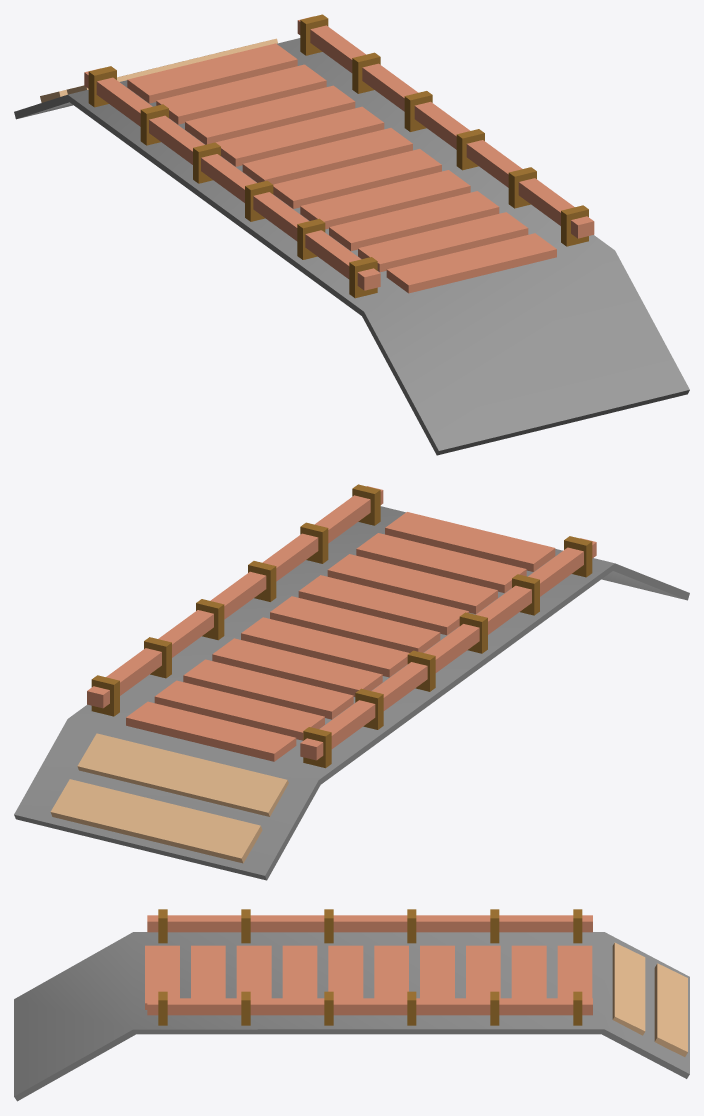
The model's file is bridge.gltf.
The picture shows the model from 3 angles, top to bottom: view 1: azimuth 30°, elevation 25°; view 2: azimuth 150°, elevation 25°; view 3: azimuth 270°, elevation 25°; orthographic projection. The views are drawn at different scales.
Visible parts, largest first — view 1: 立方体, 立方体.2, 立方体.1, 立方体.1 0, 立方体.1 9, 立方体.1 2, 立方体.1 7, 立方体.1 4, 立方体.1 5, 立方体.1 6, 立方体.1 1, 立方体.1 3 (+8 smaller); view 2: 立方体, 立方体.4, 立方体.3, 立方体.2, 立方体.1, 立方体.1 9, 立方体.1 2, 立方体.1 0, 立方体.1 7, 立方体.1 5, 立方体.1 4, 立方体.1 3 (+9 smaller); view 3: 立方体, 立方体.2, 立方体.1, 立方体.4, 立方体.3, 立方体.1 8, 立方体.1 3, 立方体.1 4, 立方体.1 1, 立方体.1 6, 立方体.1 2, 立方体.1 9 (+9 smaller).
Part boxes in pixels (x1,y1,x2,y2): 立方体: [14, 38, 689, 455]; 立方体.2: [84, 68, 380, 290]; 立方体.1: [297, 16, 594, 238]; 立方体.1 0: [386, 233, 556, 293]; 立方体.1 9: [127, 43, 297, 103]; 立方体.1 2: [329, 191, 499, 251]; 立方体.1 7: [185, 85, 355, 144]; 立方体.1 4: [273, 149, 441, 208]; 立方体.1 5: [242, 128, 412, 184]; 立方体.1 6: [215, 106, 384, 166]; 立方体.1 1: [358, 212, 528, 272]; 立方体.1 3: [300, 170, 470, 229]; 立方体: [14, 506, 689, 880]; 立方体.4: [50, 779, 262, 863]; 立方体.3: [77, 733, 288, 816]; 立方体.2: [300, 538, 596, 760]; 立方体.1: [87, 486, 383, 708]; 立方体.1 9: [126, 701, 296, 761]; 立方体.1 2: [327, 554, 497, 614]; 立方体.1 0: [385, 512, 555, 571]; 立方体.1 7: [183, 659, 353, 719]; 立方体.1 5: [241, 617, 409, 677]; 立方体.1 4: [270, 596, 440, 652]; 立方体.1 3: [298, 575, 468, 635]; 立方体: [14, 932, 689, 1101]; 立方体.2: [147, 915, 592, 932]; 立方体.1: [147, 998, 592, 1015]; 立方体.4: [654, 963, 687, 1056]; 立方体.3: [612, 942, 645, 1035]; 立方体.1 8: [511, 945, 546, 998]; 立方体.1 3: [282, 945, 317, 998]; 立方体.1 4: [328, 945, 363, 998]; 立方体.1 1: [191, 945, 225, 998]; 立方体.1 6: [420, 945, 454, 998]; 立方体.1 2: [236, 945, 271, 998]; 立方体.1 9: [557, 945, 592, 998].
Size of the model in its own units: 1323 by 616 by 3880.
